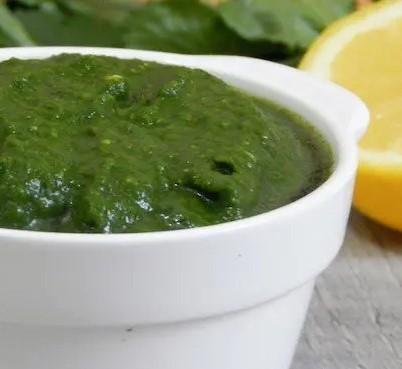GreenChutney: (0, 52, 334, 232)
